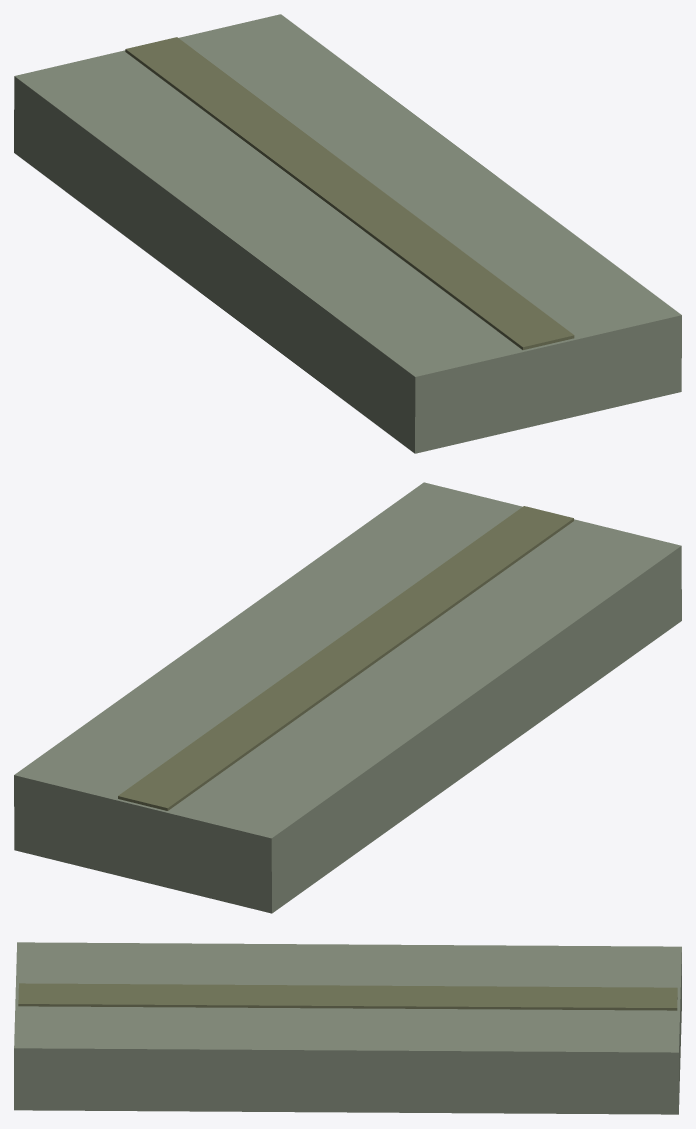
File: RoadSegment.dae
3 renders of one model, top to bottom at view 1: azimuth 30°, elevation 25°; view 2: azimuth 150°, elevation 25°; view 3: azimuth 270°, elevation 25°, orthographic. The views are drawn at different scales.
Visible parts, largest first — view 1: Cube_003; view 2: Cube_003; view 3: Cube_003.
Boxes of the visible parts, bbox=[...] form: Cube_003: bbox=[14, 14, 681, 453]; Cube_003: bbox=[14, 482, 681, 913]; Cube_003: bbox=[14, 942, 681, 1114].
Bounding box in the file's own units: 3.74 × 9.73 × 1.06.
